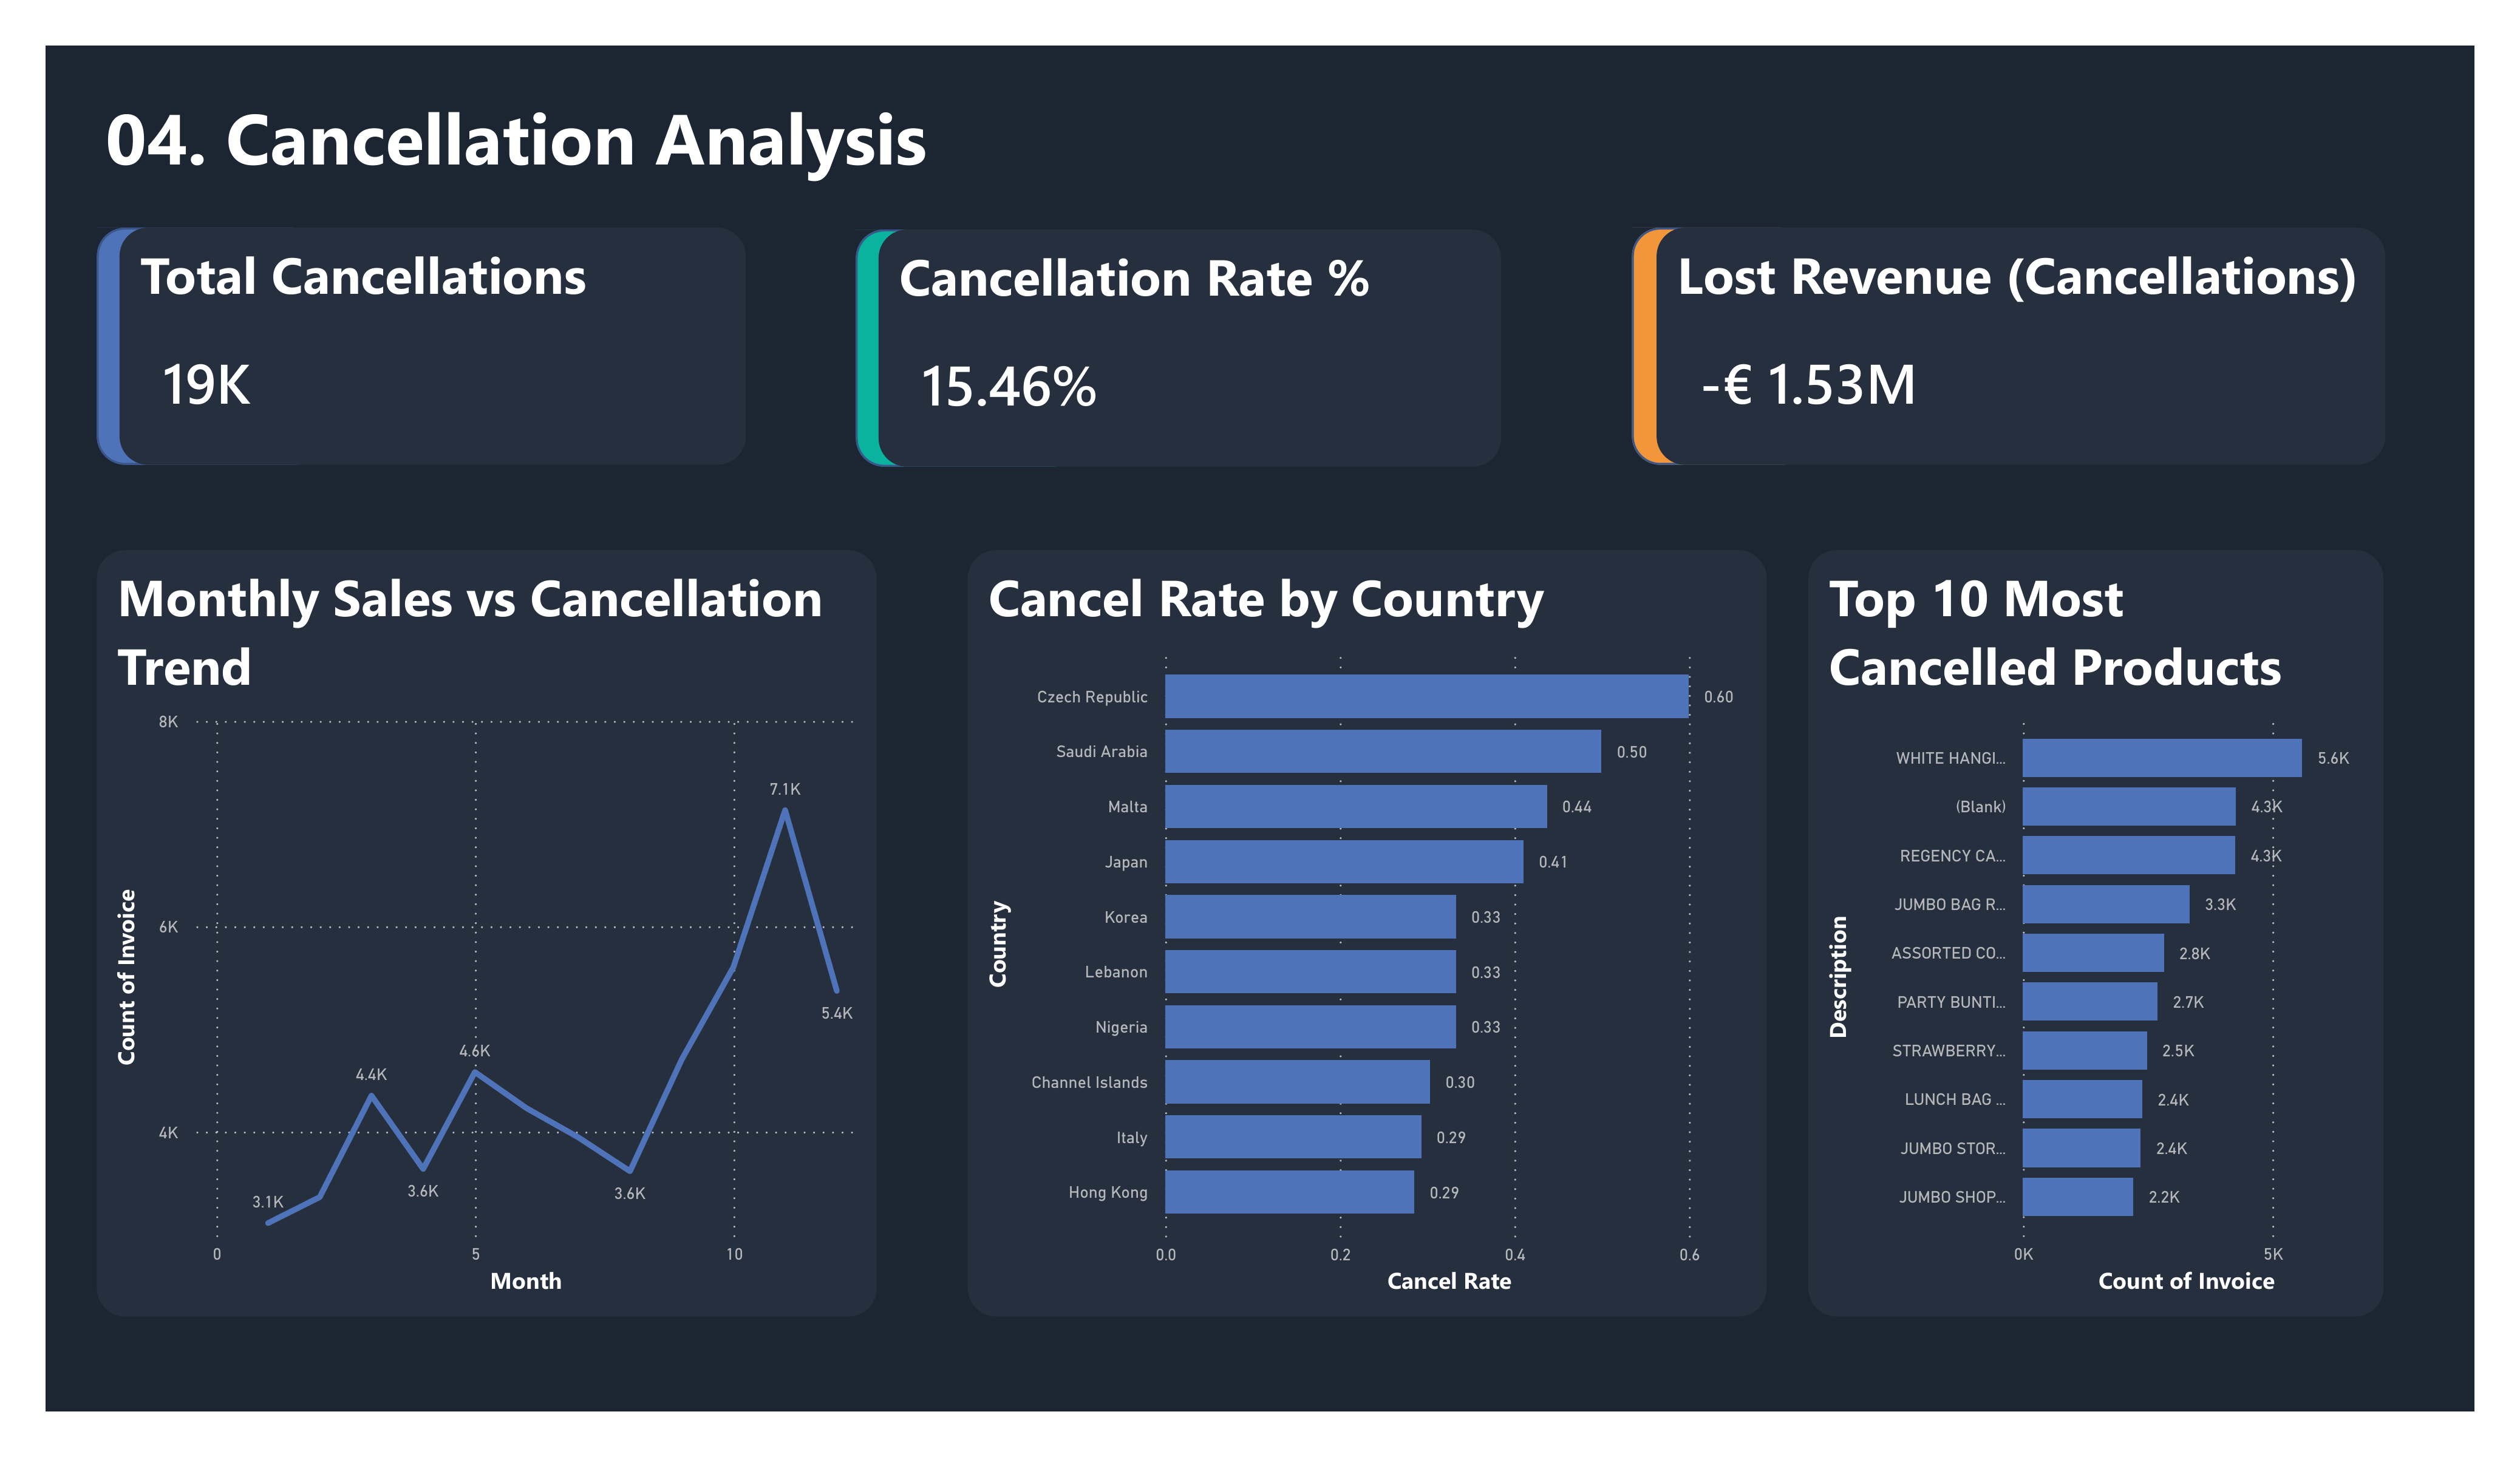

Layout of this report page (visuals, bound fields, positions):
{"tool":"powerbi","page":{"name":"04. Cancellation Analysis","canvas":[1280,720],"ordinal":3},"visuals":[{"type":"textbox","box":[27,17.6,458.2,64.5],"z":0},{"type":"shape","box":[27,96.1,118.9,125.4],"z":0,"group":"g1"},{"type":"shape","box":[835.6,96.4,93.8,125],"z":0,"group":"g3"},{"type":"shape","box":[426.6,97.3,118.3,125],"z":0,"group":"g2"},{"type":"group","id":"g1","title":"Group 1","box":[27,96.1,342.2,125.4],"z":1000},{"type":"cardVisual","title":"Total Cancellations","fields":{"Data":["CountNonNull(Uncleaned_Combined_Data.Invoice)"]},"box":[38.6,96.1,330.6,125.4],"z":1000,"group":"g1"},{"type":"cardVisual","title":"Lost Revenue (Cancellations)","fields":{"Data":["Uncleaned_Combined_Data.Lost Revenue"]},"box":[848.5,96.1,384.4,125.4],"z":1000,"group":"g3"},{"type":"cardVisual","title":"Cancellation Rate %","fields":{"Data":["Uncleaned_Combined_Data.Measure"]},"box":[438.1,97.3,328.9,125],"z":1000,"group":"g2"},{"type":"group","id":"g2","title":"Group 1","box":[426.6,97.3,341,125.4],"z":2000},{"type":"group","id":"g3","title":"Group 1","box":[835.6,96.1,397.3,125.4],"z":3000},{"type":"lineChart","title":"Monthly Sales vs Cancellation Trend","fields":{"Category":["Uncleaned_Combined_Data.Month"],"Y":["Count(Uncleaned_Combined_Data.Invoice)"]},"box":[27.4,266.2,410.3,403.4],"z":4000},{"type":"clusteredBarChart","fields":{"Category":["Uncleaned_Combined_Data.Country"],"Y":["Uncleaned_Combined_Data.Cancel Rate"]},"box":[485.8,266.2,421.3,403.4],"z":5000},{"type":"clusteredBarChart","title":"Top 10 Most Cancelled Products","fields":{"Category":["Uncleaned_Combined_Data.Description"],"Y":["Count(Uncleaned_Combined_Data.Invoice)"]},"box":[929,266.2,303.3,403.4],"z":6000}]}

Visuals, with their boxes on the page's 1280x720 design canvas (x1, y1, x2, y2). These are canvas units, not pixel positions in the 2520x1457 screenshot, which may show the page scaled, cropped or inside an application window:
textbox: BBox(27, 18, 485, 82)
shape: BBox(27, 96, 146, 222)
shape: BBox(836, 96, 929, 221)
shape: BBox(427, 97, 545, 222)
"Group 1" group: BBox(27, 96, 369, 222)
"Total Cancellations" cardVisual: BBox(39, 96, 369, 222)
"Lost Revenue (Cancellations)" cardVisual: BBox(848, 96, 1233, 222)
"Cancellation Rate %" cardVisual: BBox(438, 97, 767, 222)
"Group 1" group: BBox(427, 97, 768, 223)
"Group 1" group: BBox(836, 96, 1233, 222)
"Monthly Sales vs Cancellation Trend" lineChart: BBox(27, 266, 438, 670)
clusteredBarChart - Uncleaned_Combined_Data.Country x Uncleaned_Combined_Data.Cancel Rate: BBox(486, 266, 907, 670)
"Top 10 Most Cancelled Products" clusteredBarChart: BBox(929, 266, 1232, 670)
